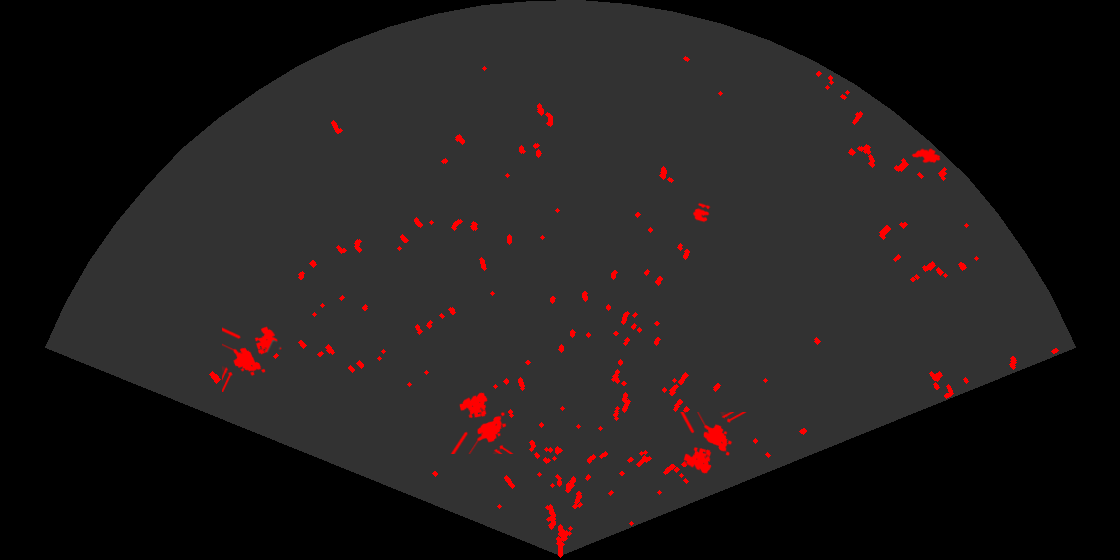AUV: (910, 146, 942, 165)
ball: (691, 201, 712, 224)
cage: (679, 412, 748, 475), (449, 391, 515, 454), (222, 325, 283, 392)
